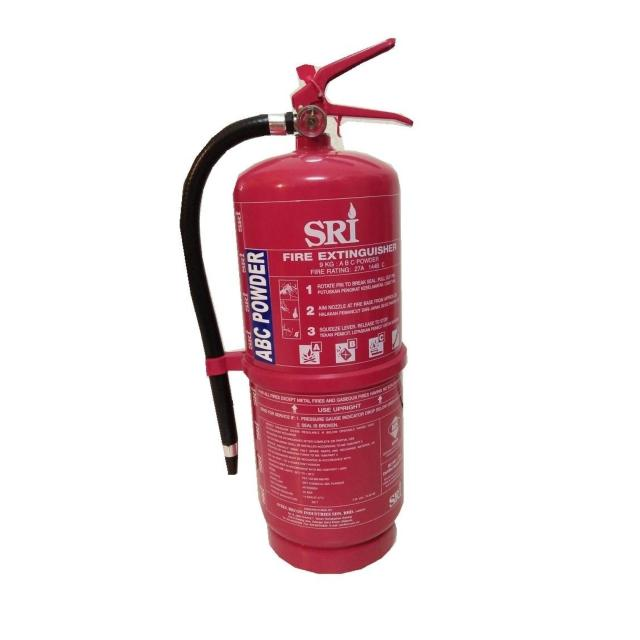fire_extinguisher: (176, 35, 416, 579)
